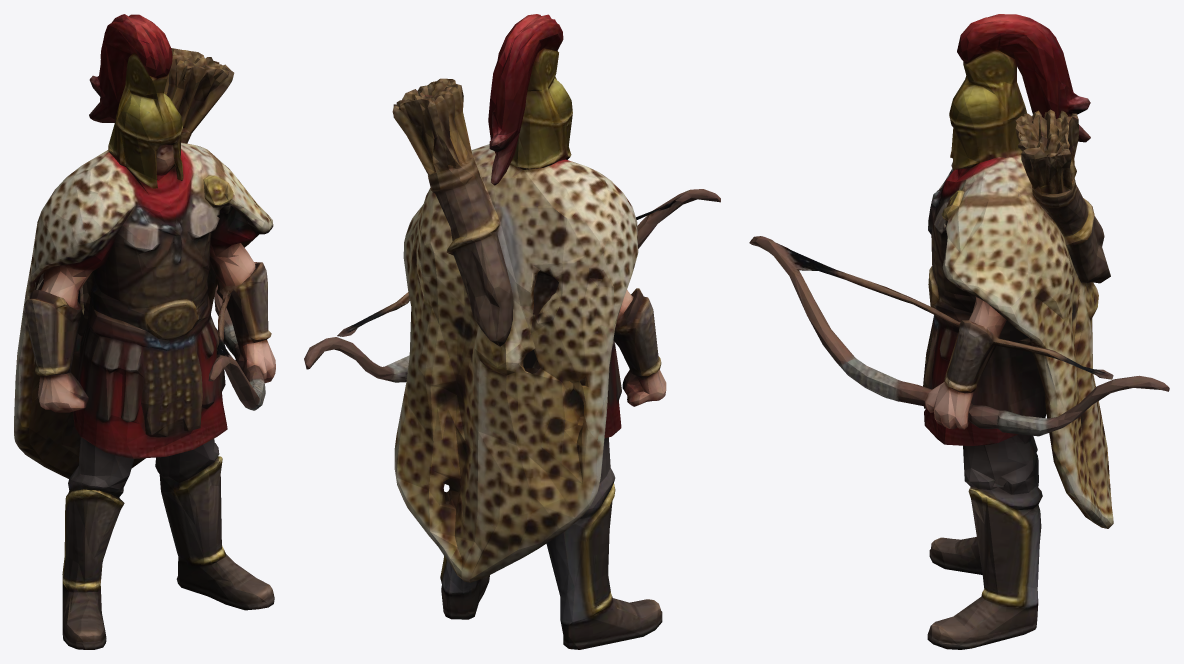
File: raidArcher.glb
3 renders of one model, left to right at view 1: azimuth 30°, elevation 25°; view 2: azimuth 150°, elevation 25°; view 3: azimuth 270°, elevation 25°, orthographic. The views are drawn at different scales.
Parts seen in each view (by area): view 1: world; view 2: world; view 3: world.
Boxes of the visible parts, left/top/right/bottom form: world: left=14, top=14, right=275, bottom=649; world: left=304, top=14, right=720, bottom=649; world: left=749, top=14, right=1169, bottom=649.
Bounding box in the file's own units: 0.4589 × 0.9985 × 0.6529.
Materials: 1 (1 with a texture image).
